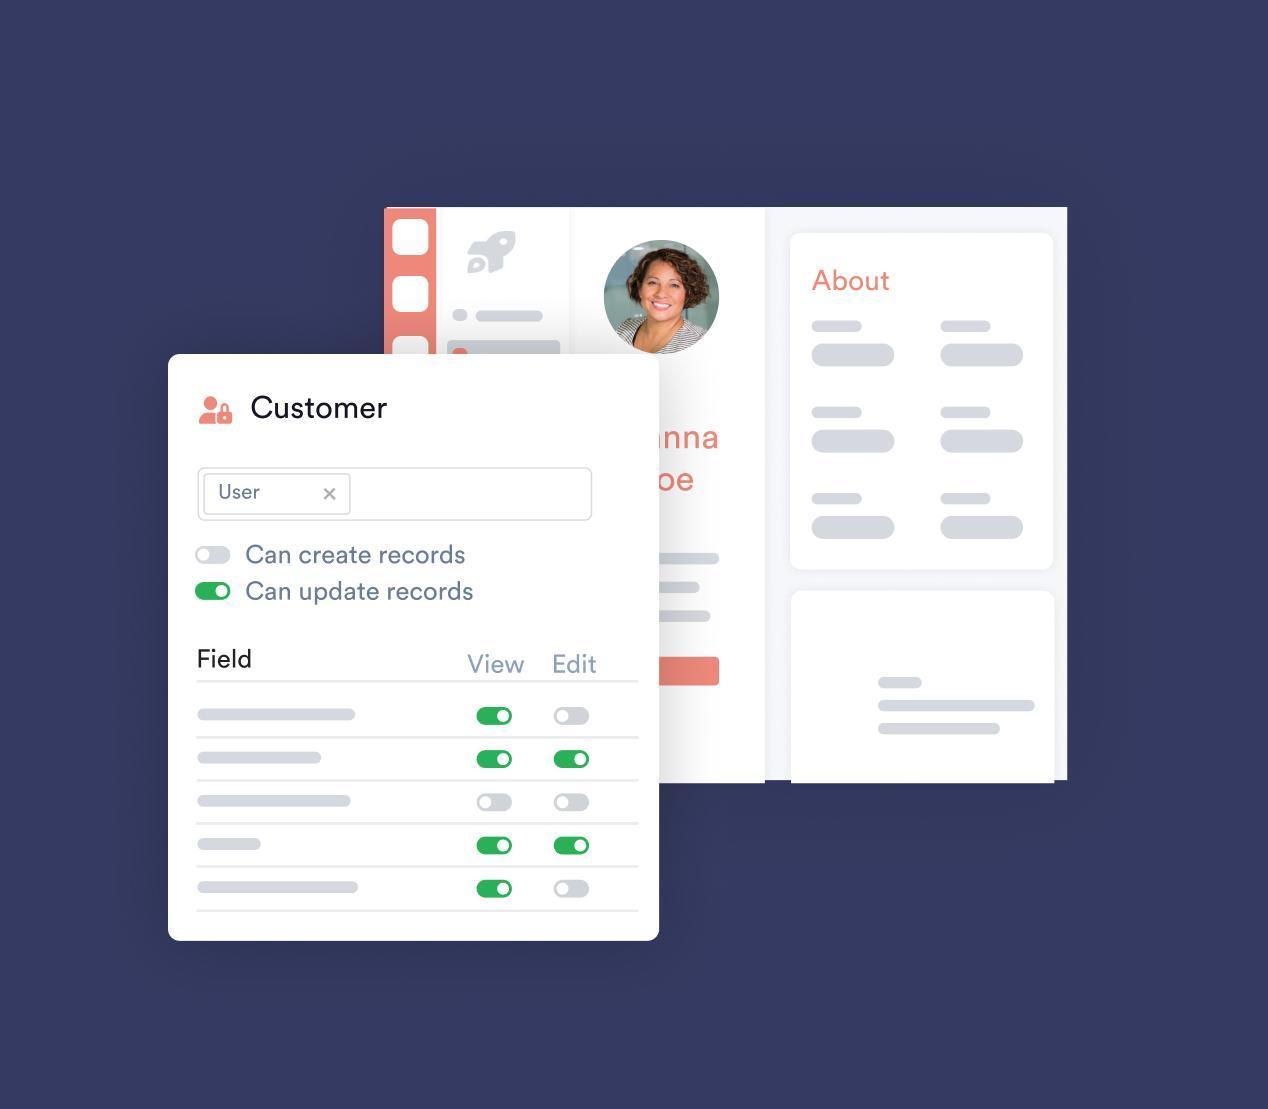input: (198, 471, 596, 523)
label: (247, 540, 472, 570), (245, 579, 481, 607)
switch: (474, 830, 522, 867), (469, 701, 516, 733), (551, 786, 596, 819), (474, 881, 524, 910), (549, 702, 594, 733), (549, 748, 594, 777), (472, 790, 519, 817), (190, 542, 238, 566), (191, 579, 236, 604), (467, 750, 519, 771), (554, 881, 592, 906), (554, 837, 591, 856)
